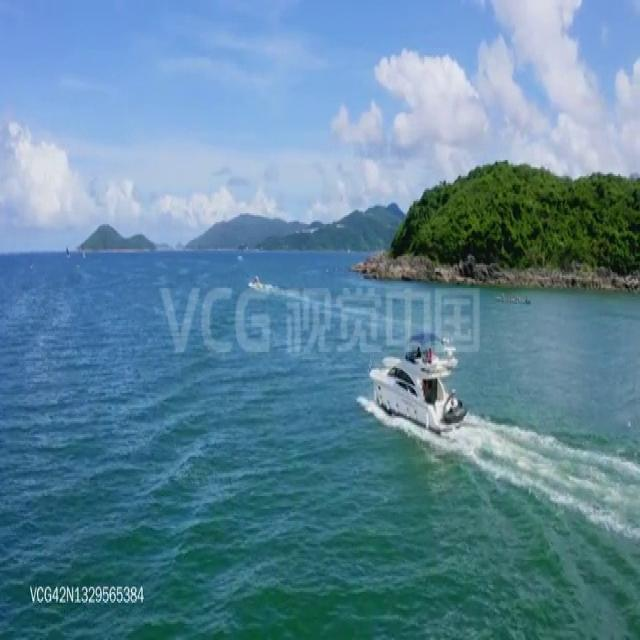houseboat: (370, 354, 470, 427), (246, 271, 268, 293)
